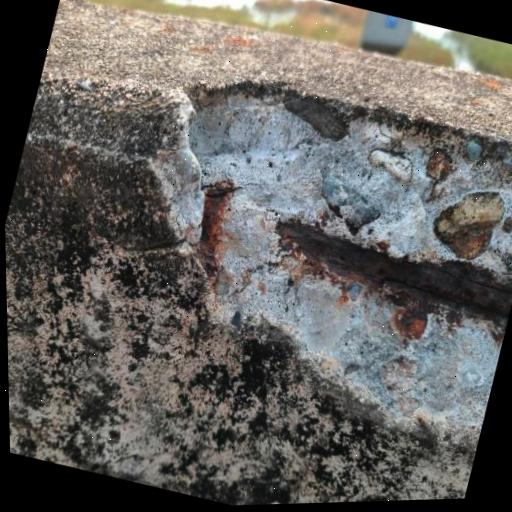exposed_rebar: (276, 221, 512, 318)
spalling: (189, 84, 512, 431)
